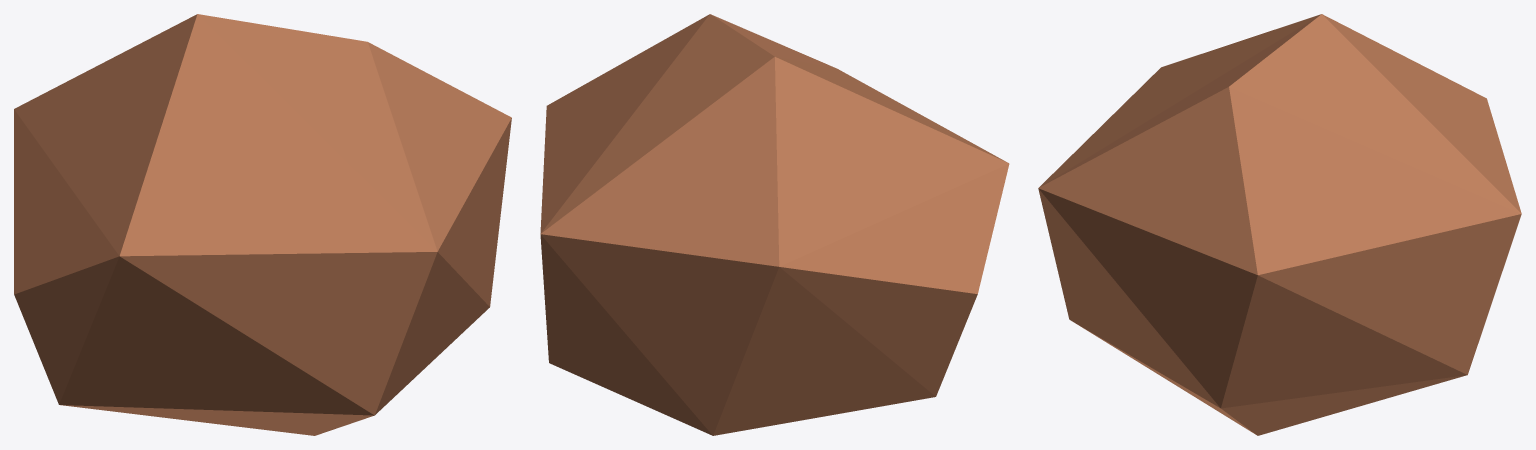
Rendered from Piedronska.fbx.
3 renders of one model, left to right at view 1: azimuth 30°, elevation 25°; view 2: azimuth 150°, elevation 25°; view 3: azimuth 270°, elevation 25°, orthographic. The views are drawn at different scales.
Visible parts, largest first — view 1: Icosphere; view 2: Icosphere; view 3: Icosphere.
Part boxes in pixels (x1,y1,x2,y2): Icosphere: (14, 14, 511, 435); Icosphere: (540, 14, 1009, 435); Icosphere: (1038, 14, 1521, 435).
Bounding box in the file's own units: 207 × 172 × 196.
